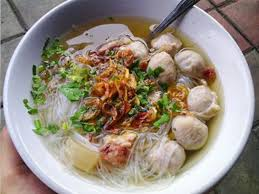bakso: (80, 32, 227, 187)
